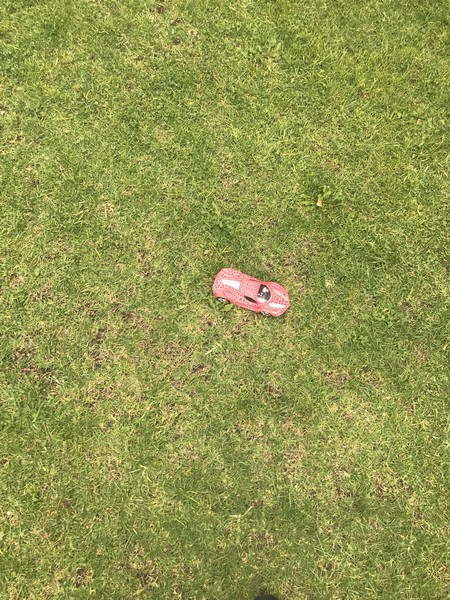RC: (210, 265, 292, 320)
